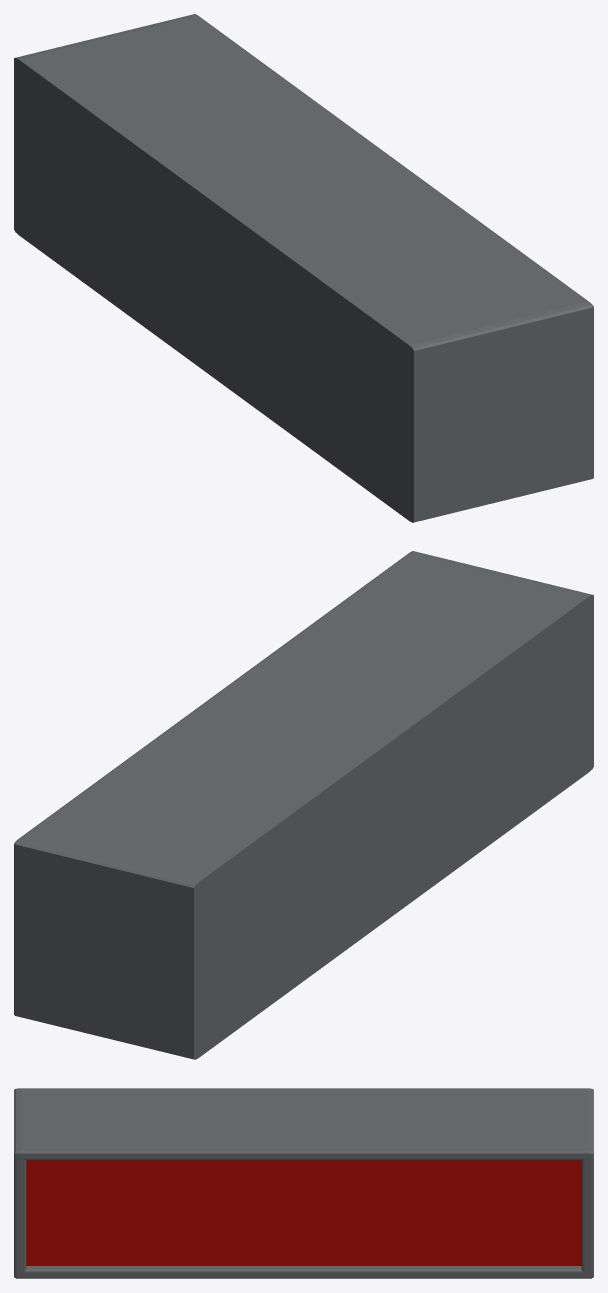
Rendered from HospitalSign.fbx.
3 renders of one model, top to bottom at view 1: azimuth 30°, elevation 25°; view 2: azimuth 150°, elevation 25°; view 3: azimuth 270°, elevation 25°, orthographic. The views are drawn at different scales.
Parts seen in each view (by area): view 1: Cube; view 2: Cube; view 3: CubeFace, Cube.
Part boxes in pixels (x1,y1,x2,y2): Cube: (14,14,593,522); Cube: (14,551,593,1059); CubeFace: (26,1160,581,1265); Cube: (14,1088,593,1278).
Size of the model in its own units: 216 by 200 by 825.
